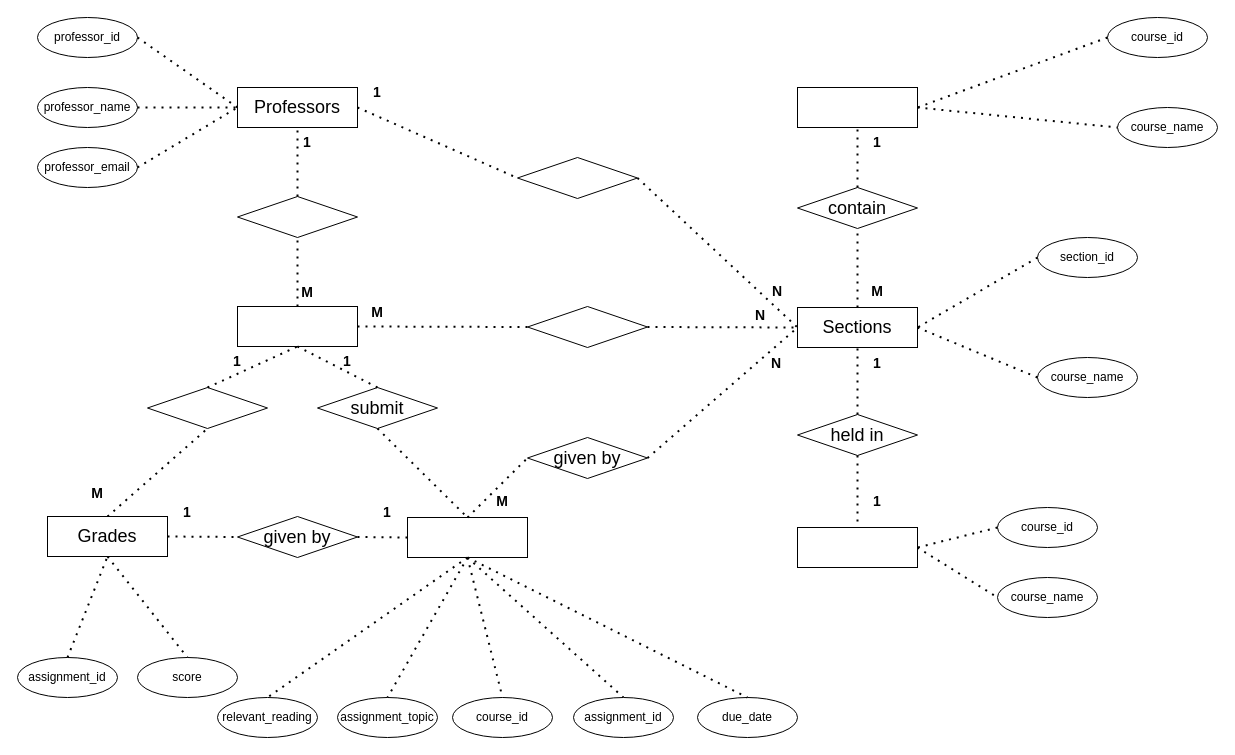
The diagram is 1235 pixels wide and 755 high, and some of its shapes have lost their labels. The shapes that lost their labels are listed below. From the top down, each one's box as (x1, y1, x2, y2) in pixels, then its label:
(796, 86, 918, 128): Courses
(516, 156, 638, 198): provide
(236, 196, 358, 238): teach
(236, 306, 358, 346): Students
(526, 306, 648, 348): enroll in
(146, 386, 268, 428): receive
(406, 516, 528, 558): Assignments
(796, 526, 918, 568): Classrooms
